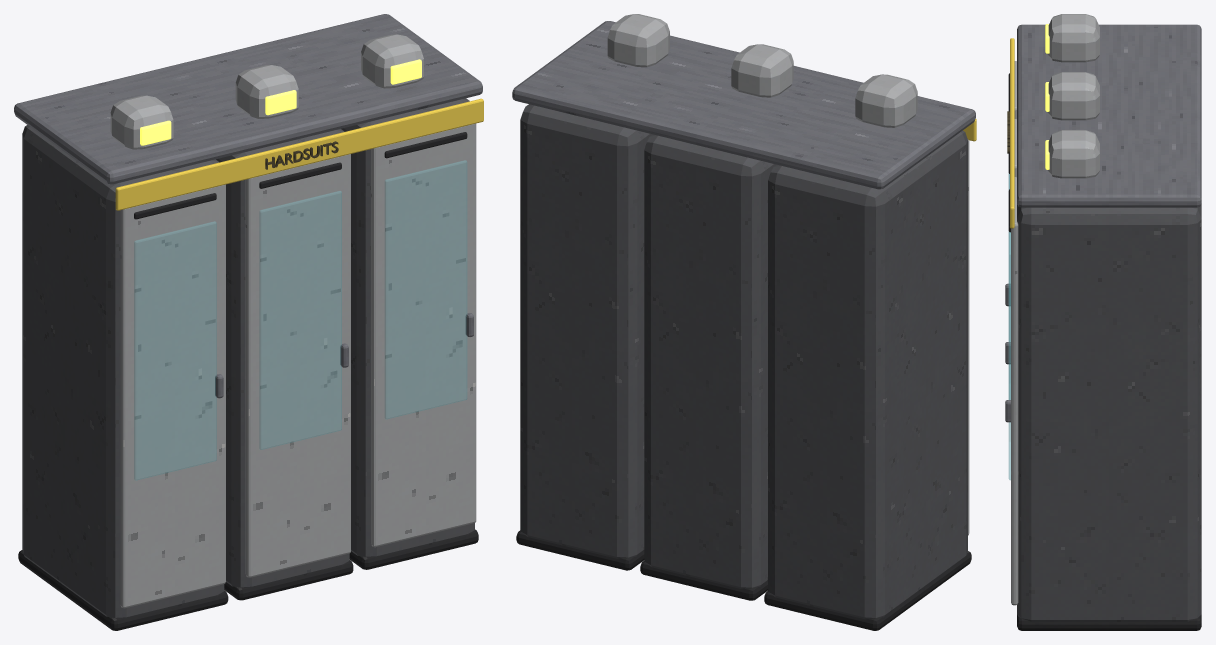
Rendered from decor_eng_hardsuit_locker.glb.
3 views of the same model, side by side, from view 1: azimuth 30°, elevation 25°; view 2: azimuth 150°, elevation 25°; view 3: azimuth 270°, elevation 25° (orthographic). The views are drawn at different scales.
Visible parts, largest first — view 1: DEC_EngHardsuitLocker__Body_1, DEC_EngHardsuitLocker__Door_Frame_1, DEC_EngHardsuitLocker__Door_Frame_2, DEC_EngHardsuitLocker__Door_Frame_3, DEC_EngHardsuitLocker__Helmet_Shelf, DEC_EngHardsuitLocker__Window_1, DEC_EngHardsuitLocker__Window_2, DEC_EngHardsuitLocker__Window_3, DEC_EngHardsuitLocker__Body_2, DEC_EngHardsuitLocker__Body_3, DEC_EngHardsuitLocker__Header_Band, DEC_EngHardsuitLocker__Helmet_2 (+8 smaller); view 2: DEC_EngHardsuitLocker__Body_1, DEC_EngHardsuitLocker__Body_3, DEC_EngHardsuitLocker__Body_2, DEC_EngHardsuitLocker__Helmet_Shelf, DEC_EngHardsuitLocker__Helmet_1, DEC_EngHardsuitLocker__Helmet_3, DEC_EngHardsuitLocker__Helmet_2, DEC_EngHardsuitLocker__Foot_1, DEC_EngHardsuitLocker__Foot_3, DEC_EngHardsuitLocker__Foot_2, DEC_EngHardsuitLocker__Door_Frame_1; view 3: DEC_EngHardsuitLocker__Body_3, DEC_EngHardsuitLocker__Helmet_Shelf, DEC_EngHardsuitLocker__Door_Frame_3, DEC_EngHardsuitLocker__Helmet_1, DEC_EngHardsuitLocker__Helmet_3, DEC_EngHardsuitLocker__Helmet_2, DEC_EngHardsuitLocker__Foot_3, DEC_EngHardsuitLocker__Header_Band, DEC_EngHardsuitLocker__Window_3, DEC_EngHardsuitLocker__Window_2.
Boxes of the visible parts, <box> form: DEC_EngHardsuitLocker__Body_1: <box>22,125,224,618</box>; DEC_EngHardsuitLocker__Door_Frame_1: <box>120,184,225,608</box>; DEC_EngHardsuitLocker__Door_Frame_2: <box>245,154,350,577</box>; DEC_EngHardsuitLocker__Door_Frame_3: <box>371,123,476,547</box>; DEC_EngHardsuitLocker__Helmet_Shelf: <box>14,14,482,184</box>; DEC_EngHardsuitLocker__Window_1: <box>134,221,216,480</box>; DEC_EngHardsuitLocker__Window_2: <box>259,191,341,449</box>; DEC_EngHardsuitLocker__Window_3: <box>385,160,467,419</box>; DEC_EngHardsuitLocker__Body_2: <box>216,129,349,588</box>; DEC_EngHardsuitLocker__Body_3: <box>341,98,474,557</box>; DEC_EngHardsuitLocker__Header_Band: <box>115,98,483,210</box>; DEC_EngHardsuitLocker__Helmet_2: <box>235,65,298,118</box>; DEC_EngHardsuitLocker__Body_1: <box>768,130,967,619</box>; DEC_EngHardsuitLocker__Body_3: <box>520,104,652,558</box>; DEC_EngHardsuitLocker__Body_2: <box>644,134,776,588</box>; DEC_EngHardsuitLocker__Helmet_Shelf: <box>512,21,975,189</box>; DEC_EngHardsuitLocker__Helmet_1: <box>855,74,917,127</box>; DEC_EngHardsuitLocker__Helmet_3: <box>607,14,669,67</box>; DEC_EngHardsuitLocker__Helmet_2: <box>731,44,793,97</box>; DEC_EngHardsuitLocker__Foot_1: <box>764,551,971,630</box>; DEC_EngHardsuitLocker__Foot_3: <box>516,530,644,570</box>; DEC_EngHardsuitLocker__Foot_2: <box>640,561,767,600</box>; DEC_EngHardsuitLocker__Door_Frame_1: <box>968,139,969,535</box>; DEC_EngHardsuitLocker__Body_3: <box>1017,203,1201,621</box>; DEC_EngHardsuitLocker__Helmet_Shelf: <box>1017,24,1201,207</box>; DEC_EngHardsuitLocker__Door_Frame_3: <box>1011,177,1018,605</box>; DEC_EngHardsuitLocker__Helmet_1: <box>1047,14,1099,62</box>; DEC_EngHardsuitLocker__Helmet_3: <box>1047,130,1099,178</box>; DEC_EngHardsuitLocker__Helmet_2: <box>1047,72,1099,120</box>; DEC_EngHardsuitLocker__Foot_3: <box>1017,614,1201,630</box>; DEC_EngHardsuitLocker__Header_Band: <box>1010,38,1014,228</box>; DEC_EngHardsuitLocker__Window_3: <box>1008,231,1010,480</box>; DEC_EngHardsuitLocker__Window_2: <box>1008,173,1010,399</box>.
Bounding box in the file's own units: 1.74 × 2.19 × 0.83.
Materials: 8 (4 with a texture image).
